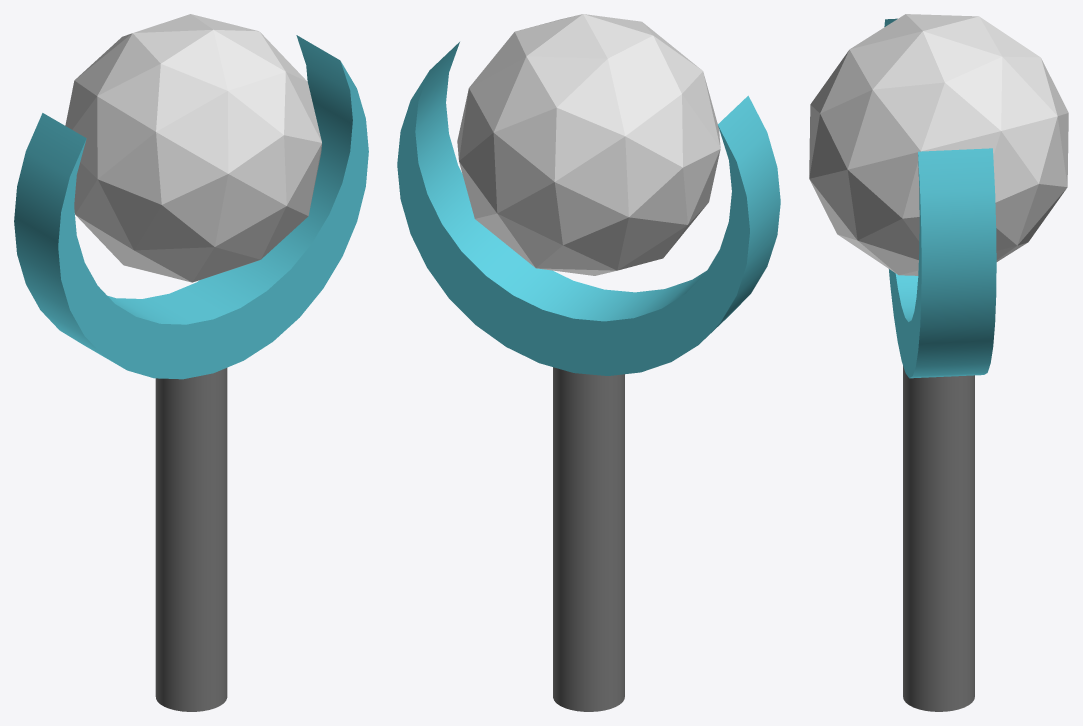
The model's file is End area.fbx.
The picture shows the model from 3 angles, left to right: view 1: azimuth 30°, elevation 25°; view 2: azimuth 150°, elevation 25°; view 3: azimuth 270°, elevation 25°; orthographic projection.
Visible parts, largest first — view 1: Icosphere, Cylinder.001, Cylinder; view 2: Icosphere, Cylinder.001, Cylinder; view 3: Icosphere, Cylinder, Cylinder.001.
Boxes of the visible parts, x1=… form: Icosphere: x1=65, y1=14, x2=321, y2=282; Cylinder.001: x1=14, y1=35, x2=368, y2=379; Cylinder: x1=155, y1=368, x2=227, y2=711; Icosphere: x1=457, y1=14, x2=720, y2=275; Cylinder.001: x1=397, y1=42, x2=780, y2=375; Cylinder: x1=553, y1=367, x2=624, y2=711; Icosphere: x1=809, y1=14, x2=1068, y2=275; Cylinder: x1=903, y1=366, x2=974, y2=711; Cylinder.001: x1=884, y1=18, x2=996, y2=378.
Bounding box in the file's own units: 399 × 757 × 265.
